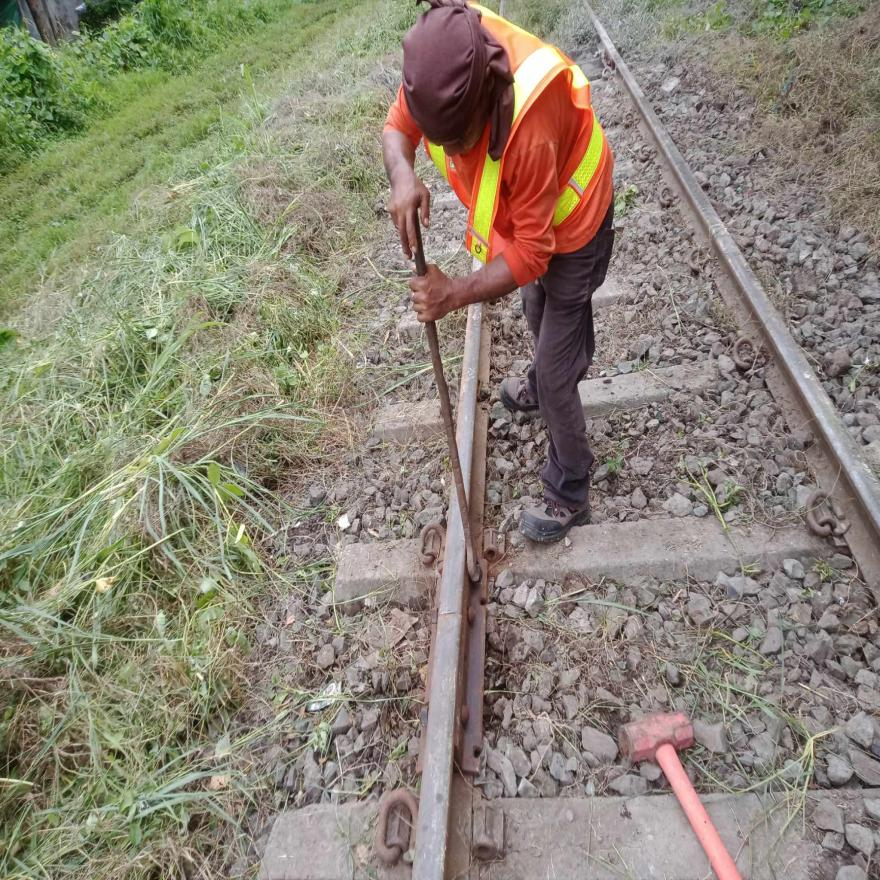railway-gap: (423, 582, 474, 654)
